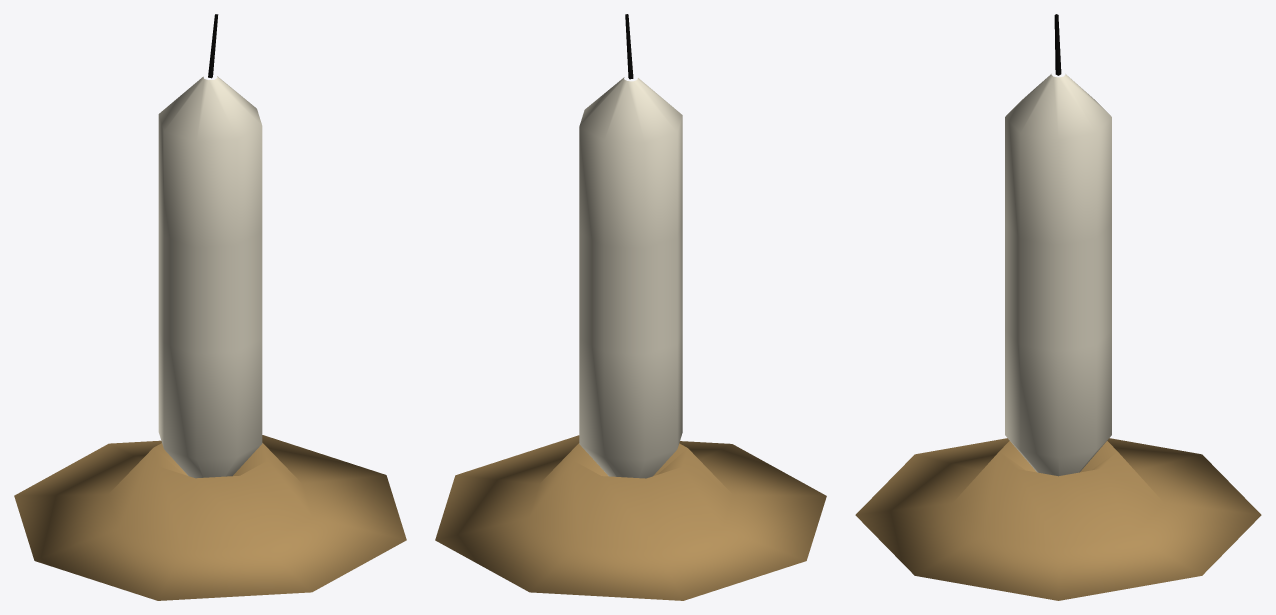
The model's file is candle_L0.glb.
3 views of the same model, side by side, from view 1: azimuth 30°, elevation 25°; view 2: azimuth 150°, elevation 25°; view 3: azimuth 270°, elevation 25° (orthographic).
Parts seen in each view (by area): view 1: holder, wax; view 2: holder, wax; view 3: holder, wax.
Boxes of the visible parts, <box> form: holder: <box>14,435,406,600</box>; wax: <box>158,76,262,478</box>; holder: <box>435,435,826,600</box>; wax: <box>579,77,682,478</box>; holder: <box>855,438,1261,600</box>; wax: <box>1005,74,1111,476</box>.
Bounding box in the file's own units: 0.0833 × 0.117 × 0.0833.
Materials: 3 (1 with a texture image).
